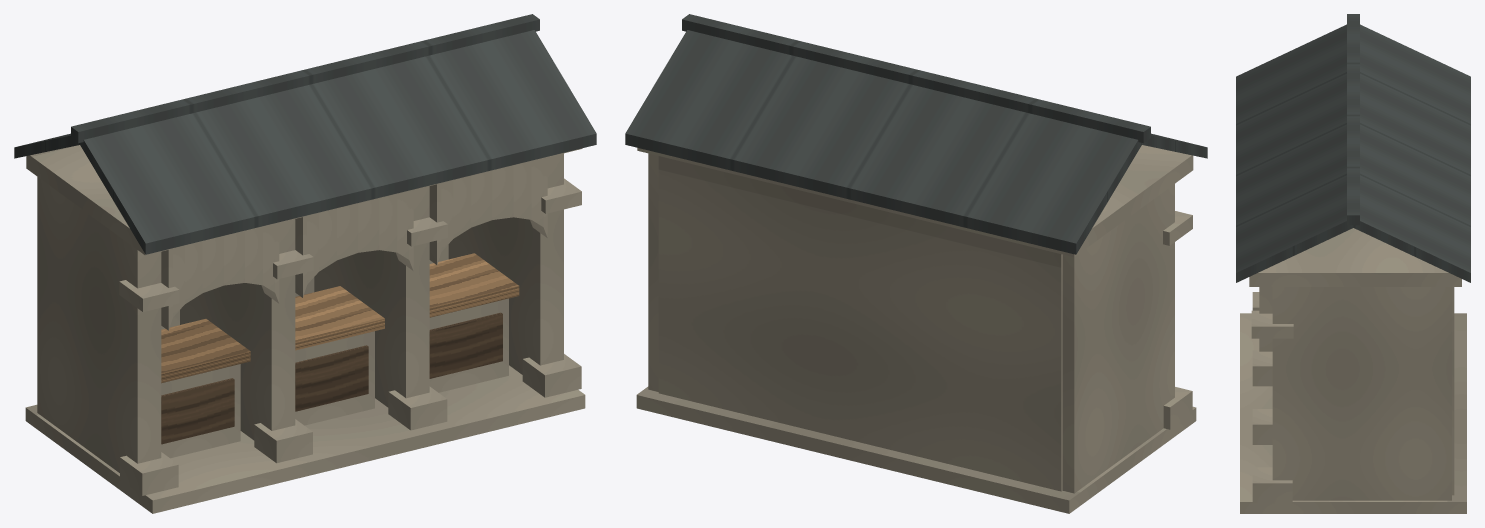
File: kigali.glb
3 views of the same model, side by side, from view 1: azimuth 30°, elevation 25°; view 2: azimuth 150°, elevation 25°; view 3: azimuth 270°, elevation 25° (orthographic). The views are drawn at different scales.
Parts seen in each view (by area): view 1: kigali; view 2: kigali; view 3: kigali.
Part boxes in pixels (<box>): kigali: <box>14,14,596,513</box>; kigali: <box>625,14,1207,513</box>; kigali: <box>1236,14,1470,513</box>.
Size of the model in its own units: 3.54 by 2.5 by 1.74.
1 material, 1 textured.
